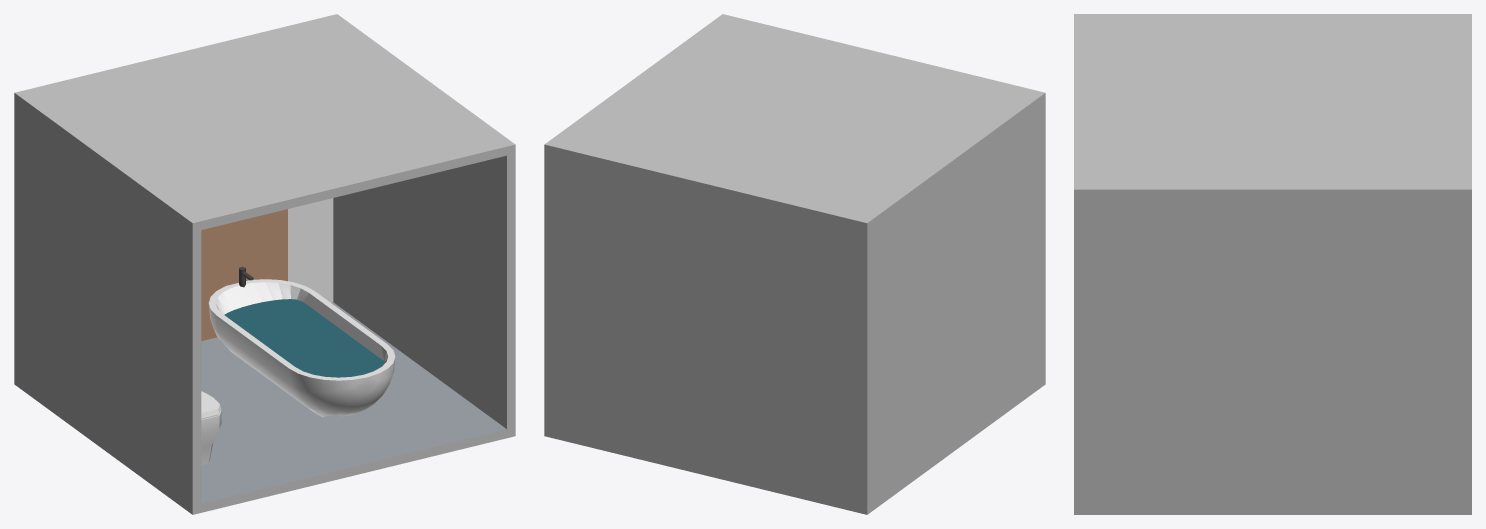
The model's file is 3qqka8Oxe2B.glb.
3 renders of one model, left to right at view 1: azimuth 30°, elevation 25°; view 2: azimuth 150°, elevation 25°; view 3: azimuth 270°, elevation 25°, orthographic. The views are drawn at different scales.
Visible parts, largest first — view 1: Box001; view 2: Box001; view 3: Box001.
Boxes of the visible parts, x1,y1,x2,y2 form: Box001: (14, 14, 515, 514); Box001: (544, 14, 1045, 514); Box001: (1074, 14, 1471, 514).
Bounding box in the file's own units: 1.16 × 1 × 1.11.
